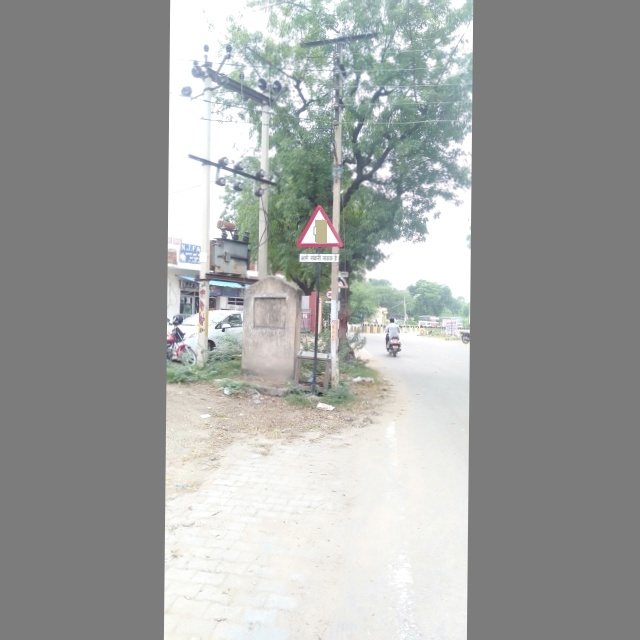Narrow_Road_Ahead: (296, 203, 342, 248)
